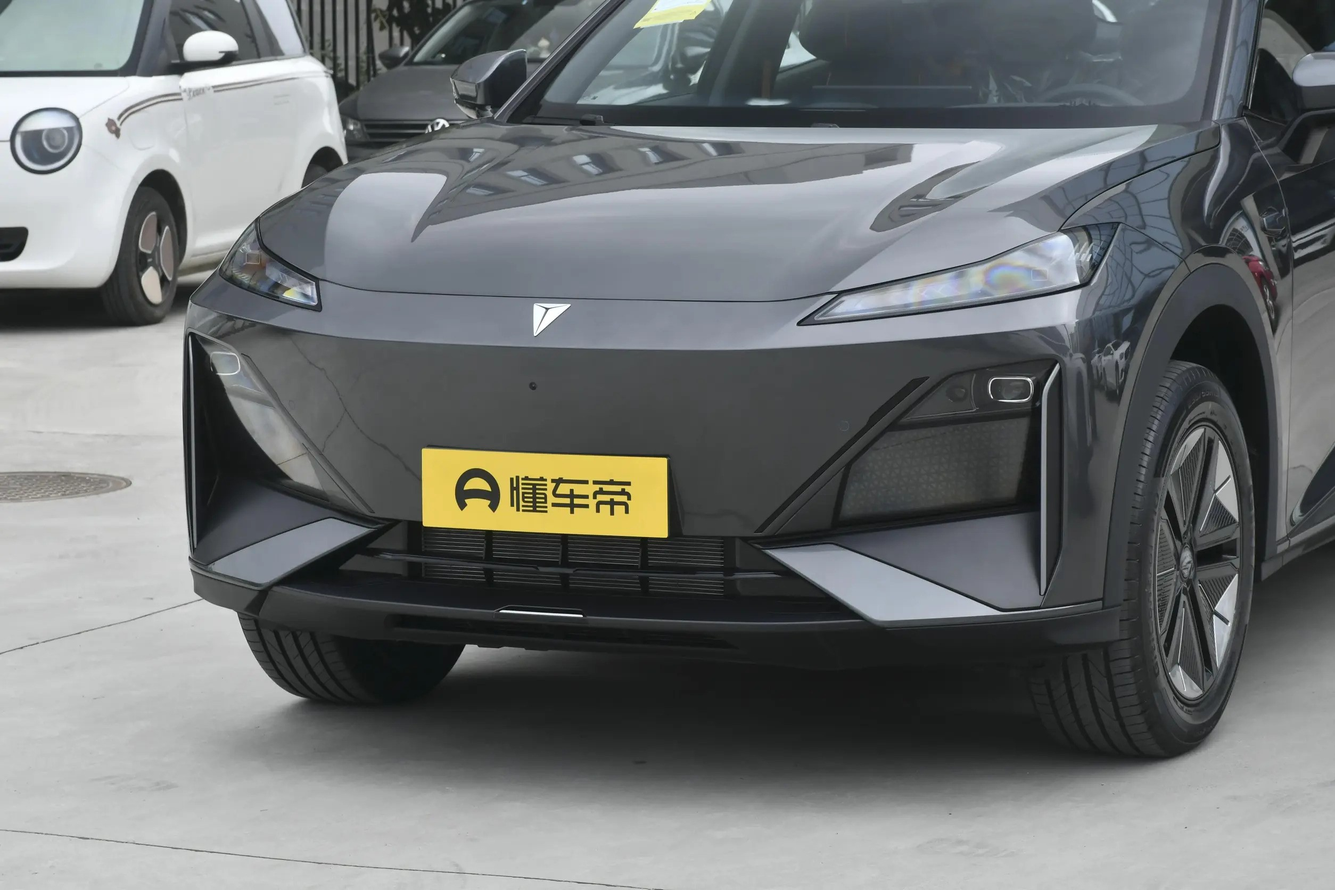Deepal: (533, 303, 571, 336)
